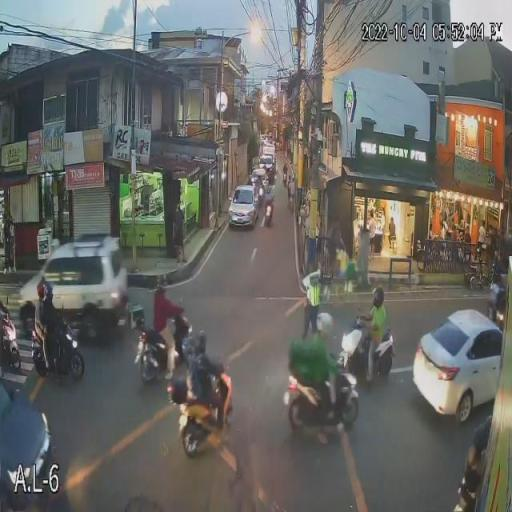helmet: (316, 310, 333, 335), (371, 287, 385, 307), (196, 331, 207, 353), (155, 276, 167, 292), (46, 283, 53, 301), (37, 284, 44, 300)
motorcycle: (168, 378, 232, 456), (128, 306, 188, 380), (286, 368, 358, 428), (340, 322, 394, 374), (33, 329, 85, 381), (0, 308, 22, 376), (265, 204, 273, 225)
rider: (194, 354, 225, 442), (314, 336, 338, 421), (154, 293, 175, 378), (44, 302, 64, 382), (366, 308, 386, 383), (35, 301, 42, 343), (266, 194, 272, 206)
